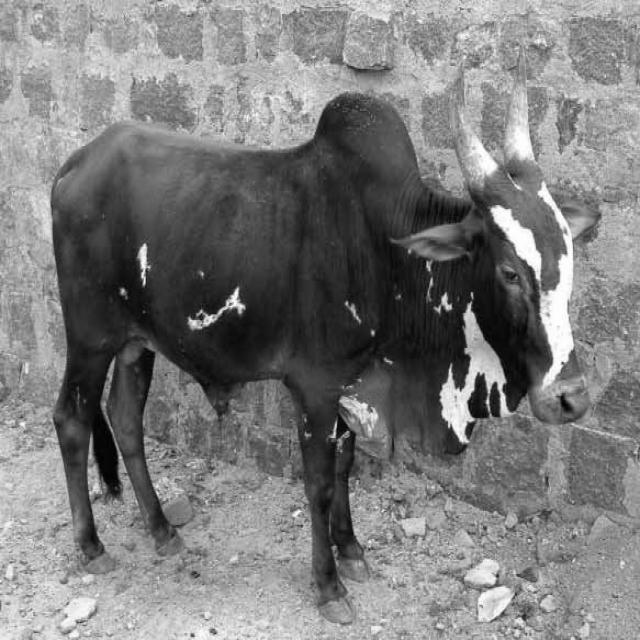Cow: (47, 43, 601, 624)
